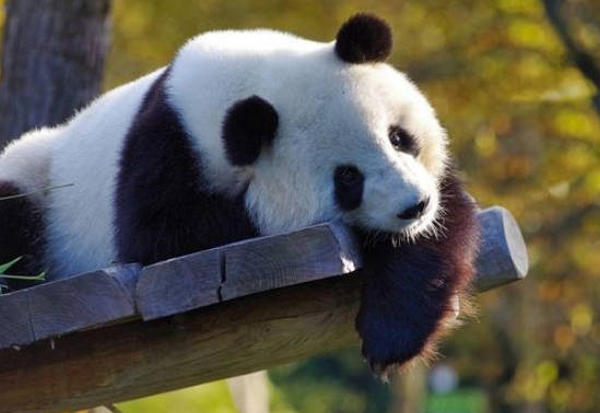panda: (10, 26, 518, 365)
